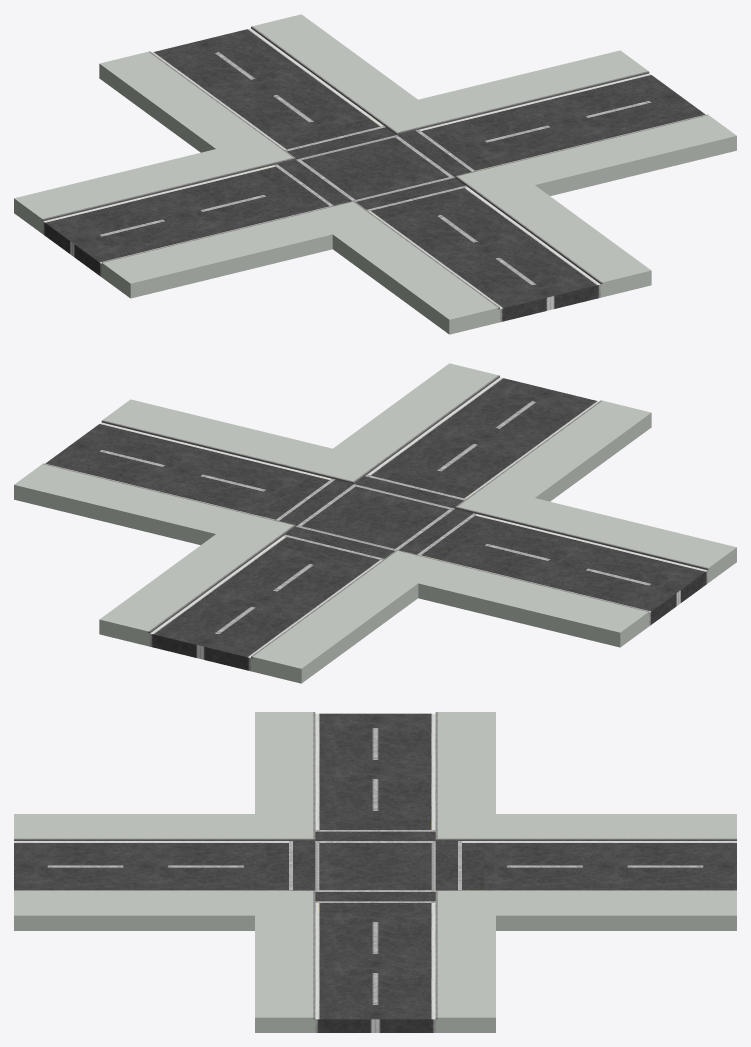
Rendered from SingleCross_high.fbx.
3 renders of one model, top to bottom at view 1: azimuth 30°, elevation 25°; view 2: azimuth 150°, elevation 25°; view 3: azimuth 270°, elevation 25°, orthographic. The views are drawn at different scales.
Parts seen in each view (by area): view 1: materialH150, materialA150, materialC150, materialE150, materialG150, materialD150, materialF150; view 2: materialH150, materialA150, materialC150, materialE150, materialG150, materialD150, materialF150; view 3: materialH150, materialA150, materialC150, materialE150, materialG150, materialD150, materialF150.
Part boxes in pixels (x1=…): materialH150: x1=14, y1=14, x2=736, y2=334; materialA150: x1=43, y1=28, x2=705, y2=322; materialC150: x1=255, y1=118, x2=493, y2=219; materialE150: x1=277, y1=127, x2=471, y2=209; materialG150: x1=42, y1=26, x2=708, y2=307; materialD150: x1=274, y1=126, x2=474, y2=211; materialF150: x1=43, y1=27, x2=649, y2=309; materialH150: x1=14, y1=363, x2=736, y2=683; materialA150: x1=45, y1=377, x2=707, y2=671; materialC150: x1=257, y1=467, x2=495, y2=568; materialE150: x1=279, y1=476, x2=473, y2=558; materialG150: x1=42, y1=375, x2=708, y2=656; materialD150: x1=276, y1=475, x2=476, y2=560; materialF150: x1=101, y1=376, x2=707, y2=658; materialH150: x1=14, y1=712, x2=736, y2=1032; materialA150: x1=14, y1=713, x2=736, y2=1032; materialC150: x1=266, y1=820, x2=484, y2=912; materialE150: x1=293, y1=831, x2=457, y2=901; materialG150: x1=14, y1=712, x2=736, y2=1019; materialD150: x1=289, y1=830, x2=461, y2=902; materialF150: x1=14, y1=839, x2=736, y2=840.
Size of the model in its own units: 76.8 by 1.8 by 76.8.
